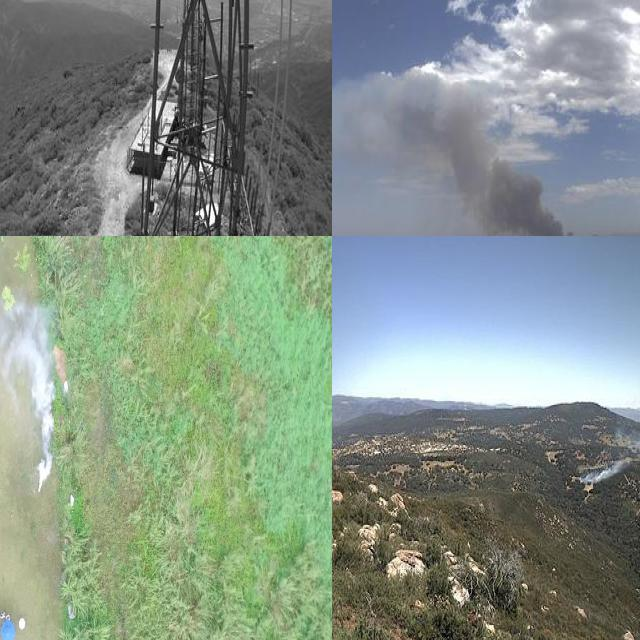smoke: (332, 65, 596, 236), (0, 303, 55, 492), (576, 426, 640, 483)
